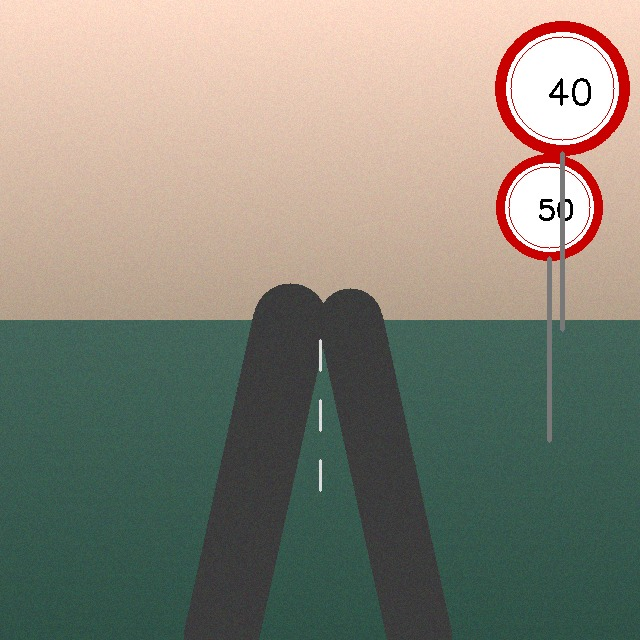velocidad: (498, 24, 627, 153), (498, 156, 600, 258)
